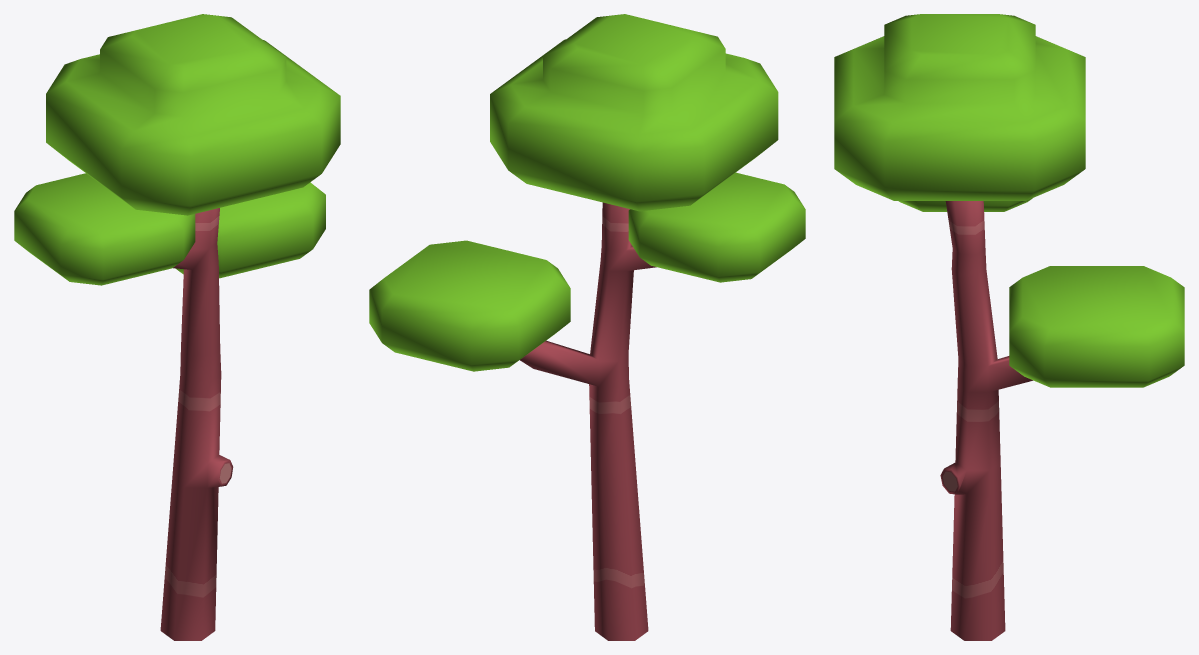
File: cay cao.glb
The picture shows the model from 3 angles, left to right: view 1: azimuth 30°, elevation 25°; view 2: azimuth 150°, elevation 25°; view 3: azimuth 270°, elevation 25°; orthographic projection. The views are drawn at different scales.
Parts seen in each view (by area): view 1: Plane.001, Circle, Plane.002, Plane; view 2: Plane.001, Circle, Plane, Plane.002; view 3: Plane.001, Circle, Plane, Plane.002.
Boxes of the visible parts, x1,y1,x2,y2 form: Plane.001: (46, 14, 340, 215); Circle: (160, 208, 233, 640); Plane.002: (14, 173, 195, 285); Plane: (175, 182, 325, 278); Plane.001: (490, 14, 778, 211); Circle: (520, 202, 656, 640); Plane: (369, 240, 570, 371); Plane.002: (628, 172, 805, 282); Plane.001: (834, 14, 1085, 200); Circle: (940, 201, 1032, 640); Plane: (1009, 266, 1184, 387); Plane.002: (898, 198, 1032, 211).
Bounding box in the file's own units: 1.5 × 2.6 × 1.39.
Materials: 3 (1 with a texture image).
